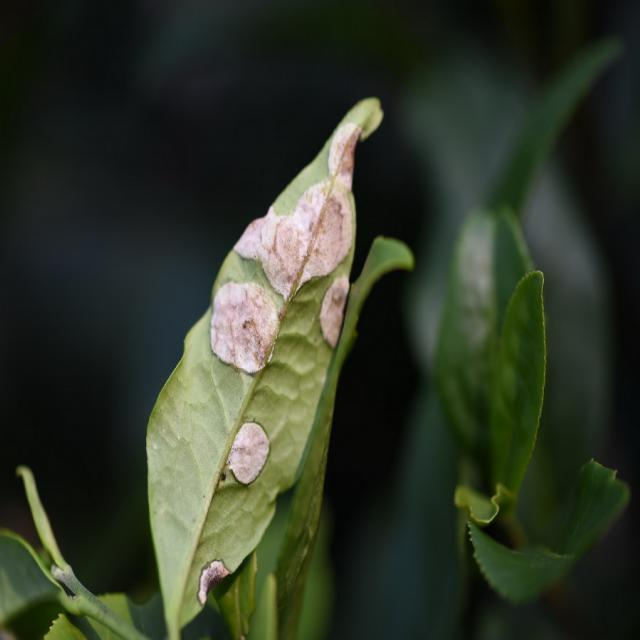Tea cake: (242, 121, 357, 268), (214, 284, 280, 379), (224, 422, 271, 483), (321, 278, 354, 345), (196, 559, 233, 601)
